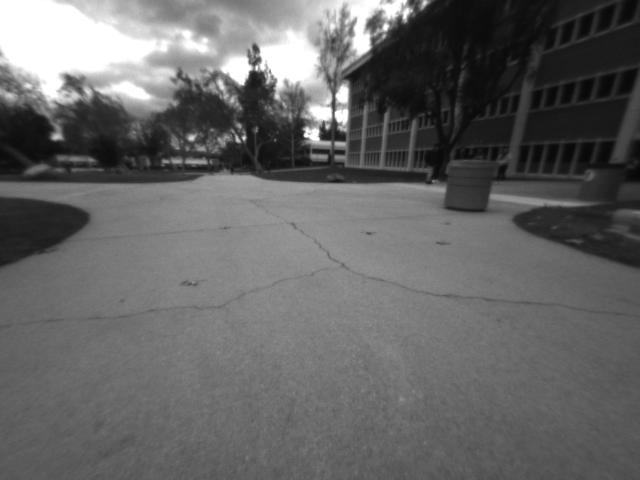trashcan: (449, 160, 491, 220), (582, 159, 626, 211)
